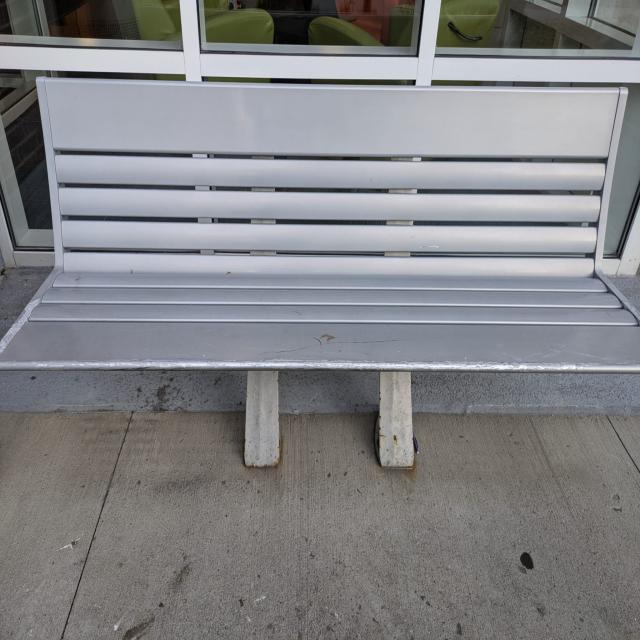Crevice Corrosion: (390, 431, 407, 454)
